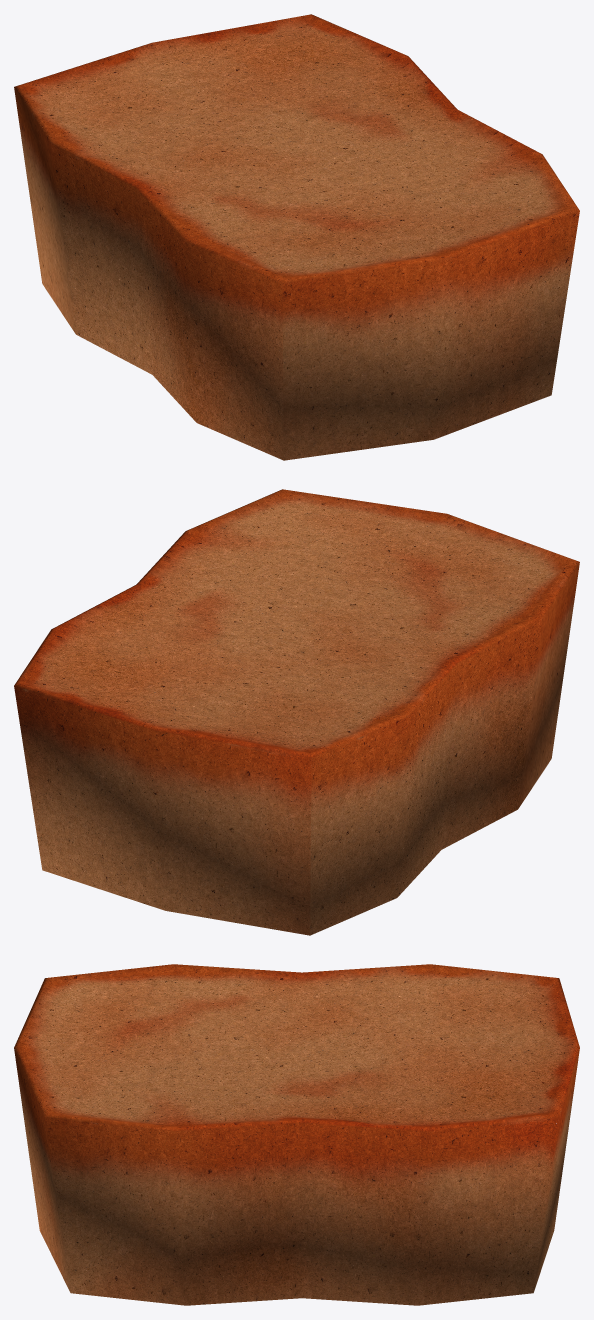
File: ground-large-1.glb
3 views of the same model, one above another, from view 1: azimuth 30°, elevation 25°; view 2: azimuth 150°, elevation 25°; view 3: azimuth 270°, elevation 25° (orthographic). The views are drawn at different scales.
Visible parts, largest first — view 1: GroundLarge-col; view 2: GroundLarge-col; view 3: GroundLarge-col.
Boxes of the visible parts, left/top/right/bottom form: GroundLarge-col: left=14, top=14, right=579, bottom=460; GroundLarge-col: left=14, top=489, right=579, bottom=935; GroundLarge-col: left=14, top=964, right=579, bottom=1305.
Size of the model in its own units: 38.4 by 19.8 by 55.
Materials: 1 (1 with a texture image).
